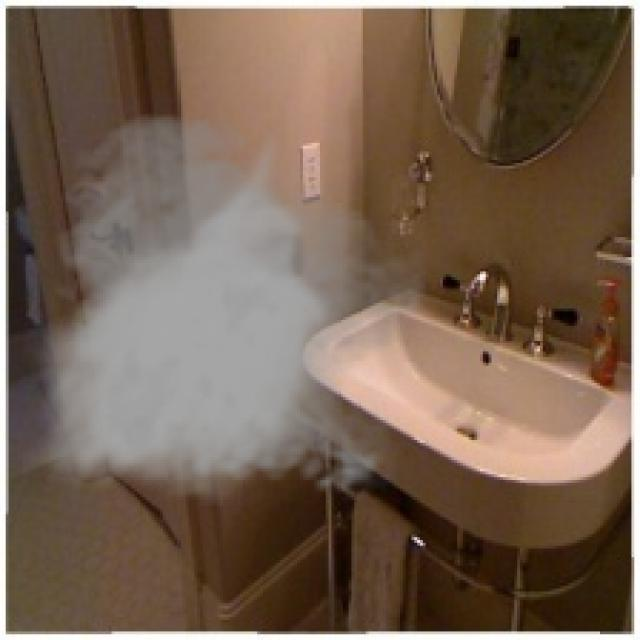smoke: (23, 108, 426, 506)
